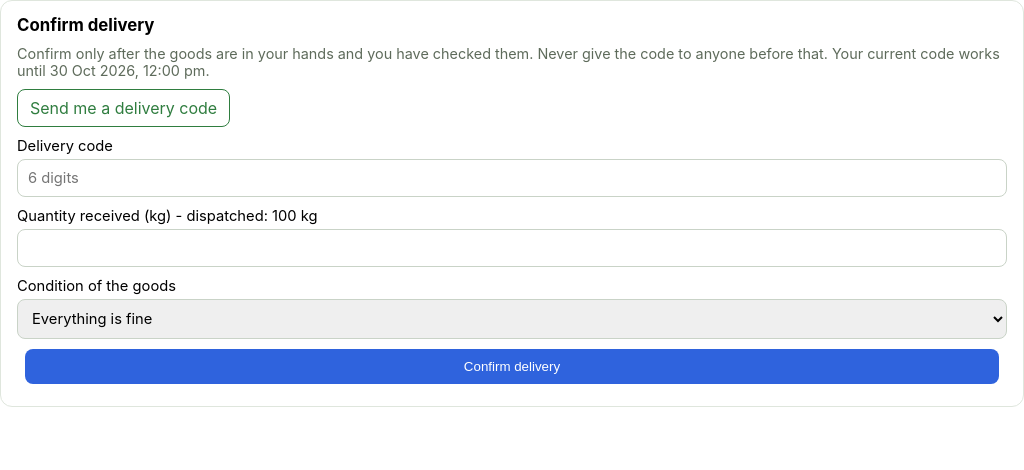
it: a wrong code shows how many attempts are left and clears the field
Type "000000" into the field labelled "Delivery code" at x=512, y=178, box left=17, top=159, right=1007, bottom=197
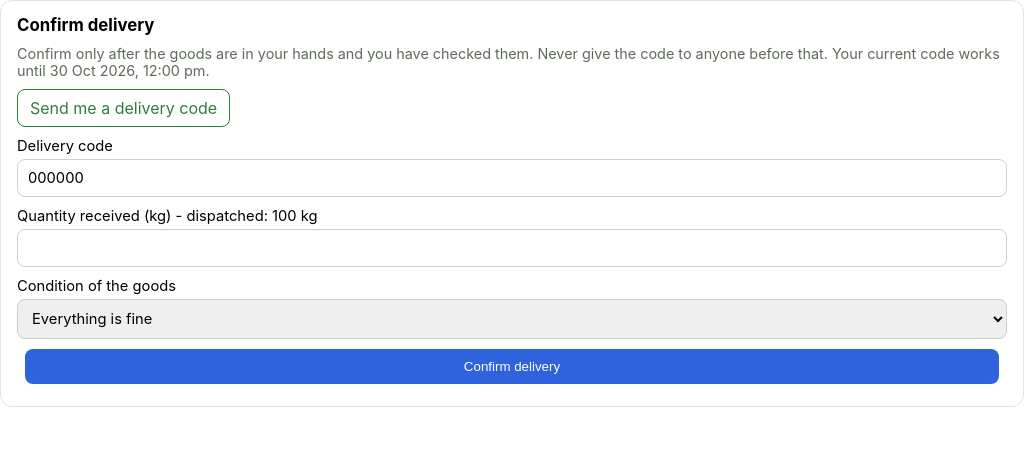
Type "100" into the number field labelled "Quantity received (kg) - dispatched: 100 kg" at x=512, y=248, box left=17, top=229, right=1007, bottom=267
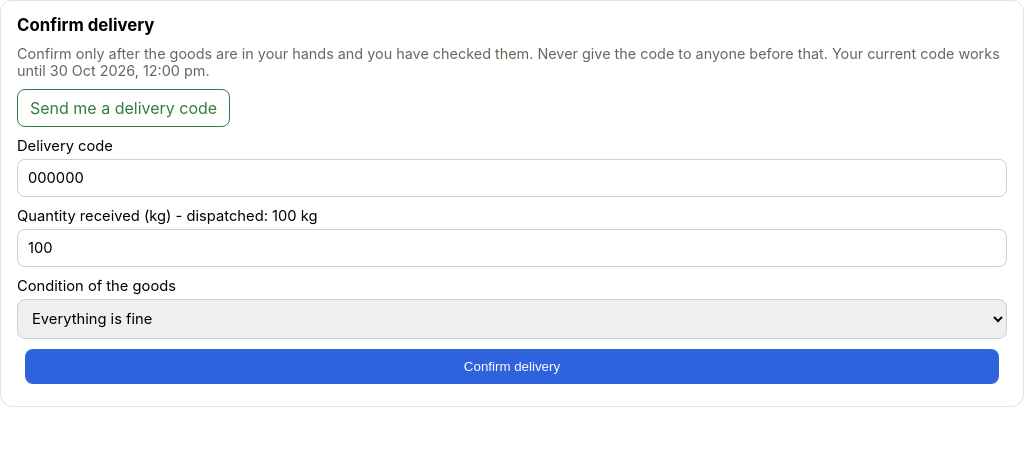
Click the button "Confirm delivery" at x=512, y=366, box left=25, top=349, right=999, bottom=384
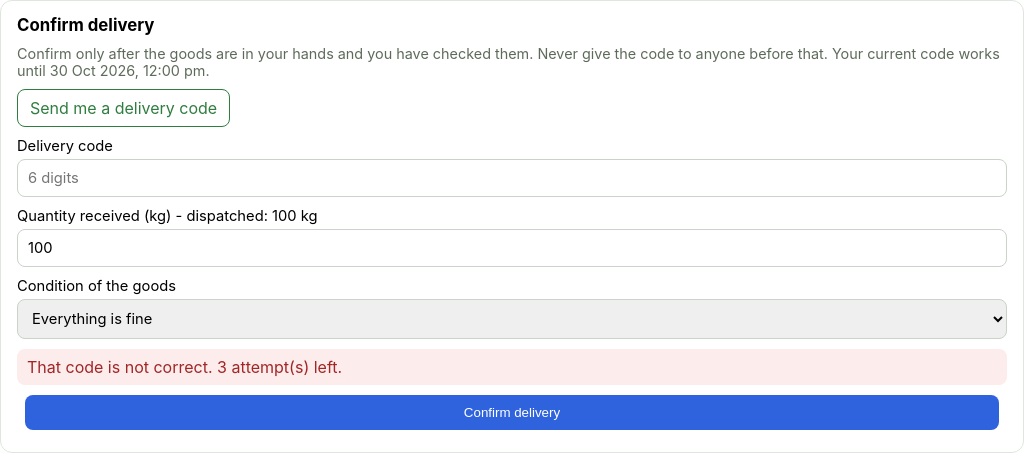
Result: the text "That code is not correct. 3 attempt(s) left." is shown at left=17, top=349, right=1007, bottom=385
Result: the field labelled "Delivery code" is empty at left=17, top=159, right=1007, bottom=197
